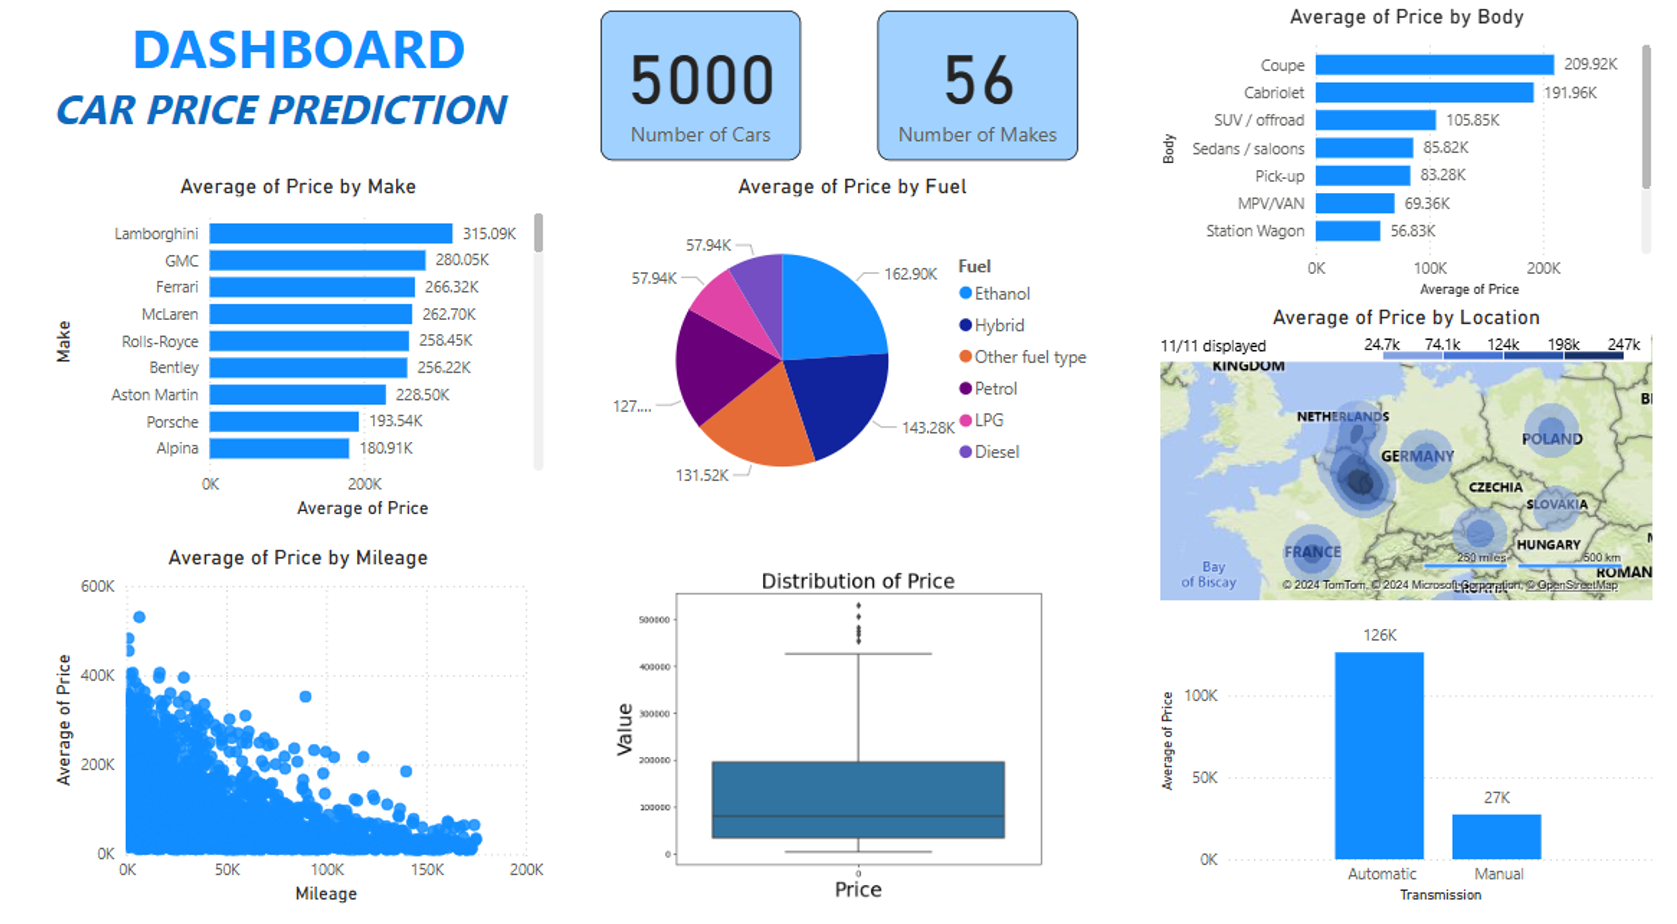

Layout of this report page (visuals, bound fields, positions):
{"tool":"powerbi","page":{"name":"Page 1","canvas":[1280,720],"ordinal":0},"visuals":[{"type":"barChart","fields":{"Y":["Avg(filled_data.Price)"],"Category":["filled_data.Make"]},"box":[0,134.3,400,280],"z":0},{"type":"card","fields":{"Values":["Count(filled_data.Make)"]},"box":[660,5.5,159.2,119.4],"z":1000},{"type":"card","fields":{"Values":["CountNonNull(filled_data.Make)"]},"box":[440.5,5.5,159.2,119.4],"z":2000},{"type":"columnChart","fields":{"Category":["filled_data.Transmission"],"Y":["Avg(filled_data.Price)"]},"box":[880,478.6,400,241.4],"z":3000},{"type":"pieChart","fields":{"Y":["Avg(filled_data.Price)"],"Category":["filled_data.Fuel"]},"box":[440,134.3,400,280],"z":4000},{"type":"textbox","box":[0,0,399.9,134.5],"z":5000},{"type":"heatmapF244EA9EE1F34E828A80CF19B41976F8","fields":{"location":["filled_data.Location"],"value":["Avg(filled_data.Price)"]},"box":[880,238.3,400,240],"z":6000},{"type":"pythonVisual","title":"Distribution of Price","fields":{"Values":["filled_data.Price"]},"box":[420,430,440,290],"z":7000},{"type":"barChart","fields":{"Y":["Avg(filled_data.Price)"],"Category":["filled_data.Body"]},"box":[881.7,0,398.3,238.3],"z":9000},{"type":"scatterChart","fields":{"Y":["Avg(filled_data.Price)"],"X":["filled_data.Mileage"]},"box":[0,430,400,290],"z":9001}]}

Visuals, with their boxes in screenshot pixels (x1, y1, x2, y2), scaled from the page's 1280x720 canvas onto the 1677x924 screenshot:
barChart - Avg(filled_data.Price) x filled_data.Make: {"left": 0, "top": 172, "right": 524, "bottom": 532}
card - Count(filled_data.Make): {"left": 865, "top": 7, "right": 1073, "bottom": 160}
card - CountNonNull(filled_data.Make): {"left": 577, "top": 7, "right": 786, "bottom": 160}
columnChart - filled_data.Transmission x Avg(filled_data.Price): {"left": 1153, "top": 614, "right": 1676, "bottom": 923}
pieChart - Avg(filled_data.Price) x filled_data.Fuel: {"left": 576, "top": 172, "right": 1101, "bottom": 532}
textbox: {"left": 0, "top": 0, "right": 524, "bottom": 173}
heatmapF244EA9EE1F34E828A80CF19B41976F8 - filled_data.Location x Avg(filled_data.Price): {"left": 1153, "top": 306, "right": 1676, "bottom": 614}
"Distribution of Price" pythonVisual: {"left": 550, "top": 552, "right": 1127, "bottom": 923}
barChart - Avg(filled_data.Price) x filled_data.Body: {"left": 1155, "top": 0, "right": 1676, "bottom": 306}
scatterChart - Avg(filled_data.Price) x filled_data.Mileage: {"left": 0, "top": 552, "right": 524, "bottom": 923}
